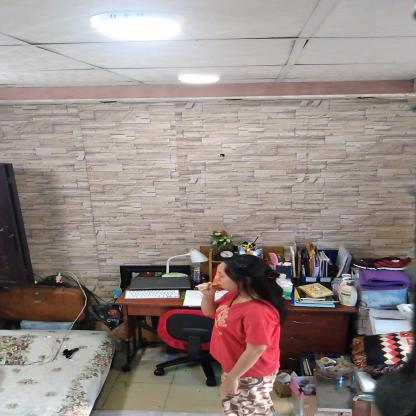cigarette: (194, 284, 218, 288)
person: (199, 254, 286, 415)
